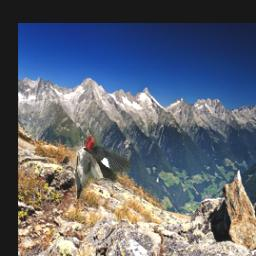Woodpecker: (62, 128, 130, 199)
